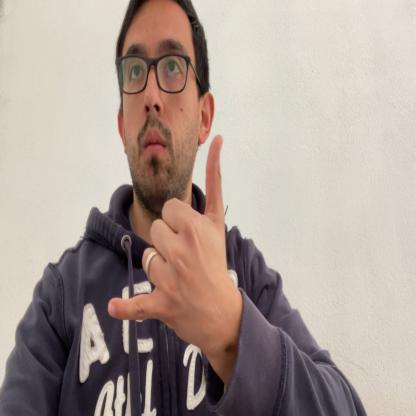Y: (108, 134, 232, 345)
